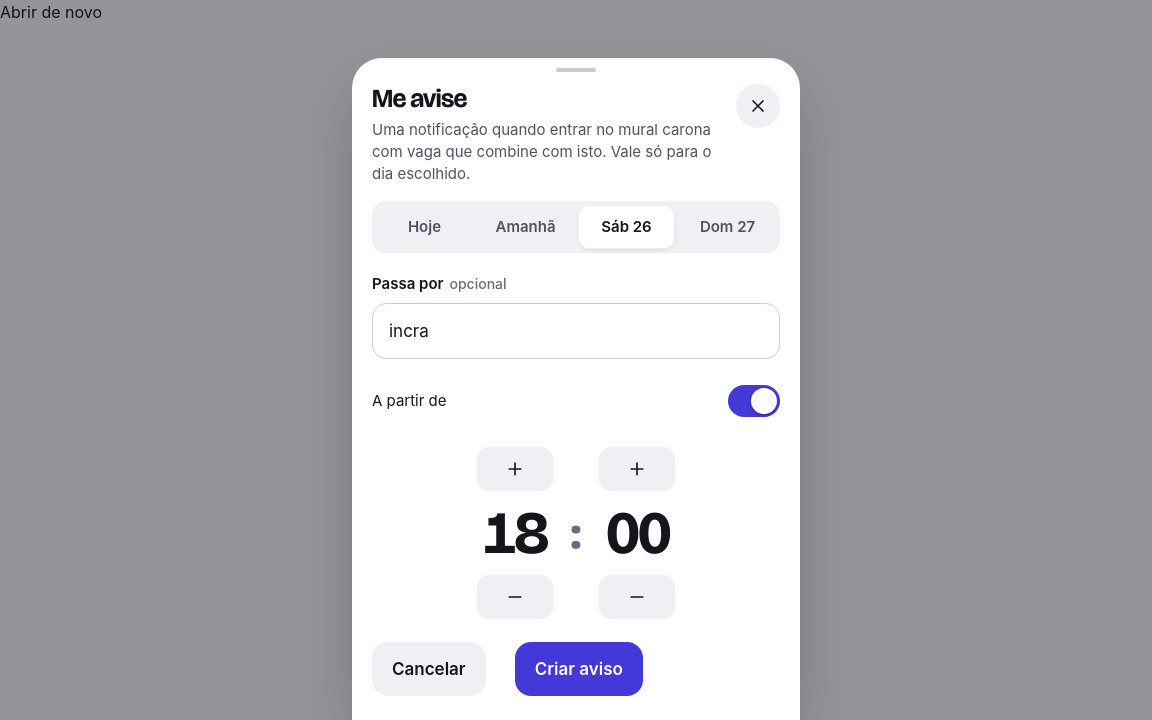
AlertSheet for an account in good standing › asks for push before any request, then creates the alert and says what the device does
This screenshot has width=1152, height=720.
Click the button "Criar aviso" at [579, 669], box x1=515 y1=642 x2=643 y2=696
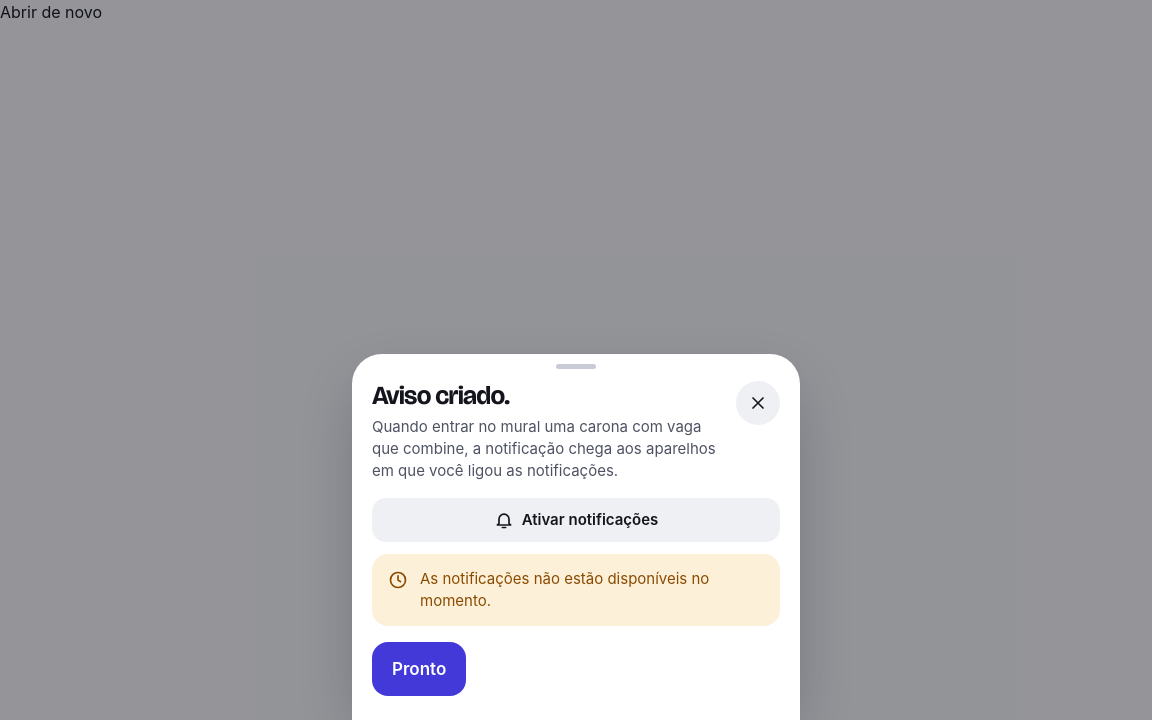
Result: the heading "Aviso criado." is shown at x1=372 y1=380 x2=509 y2=411
Result: the text "Quando entrar no mural uma carona com vaga que combine, a notificação chega aos aparelhos em que você ligou as notificaç" is shown at x1=372 y1=417 x2=716 y2=480
Result: the text "As notificações não estão disponíveis no momento." is shown at x1=420 y1=569 x2=709 y2=610
